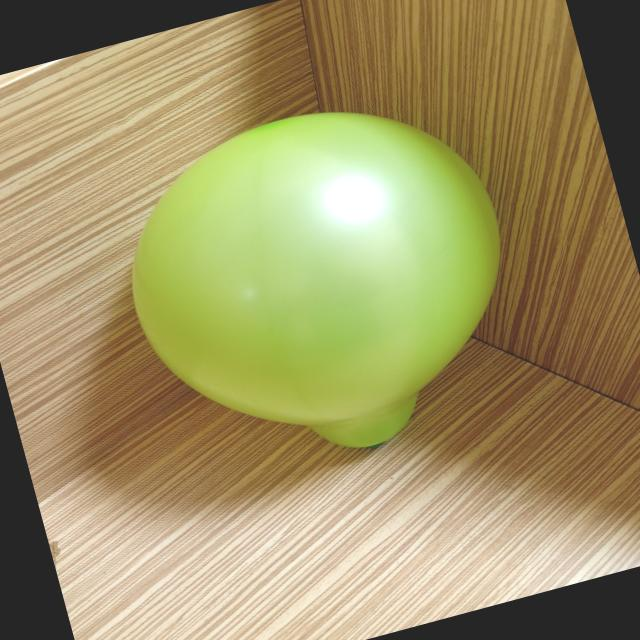balloon: (132, 112, 500, 447)
